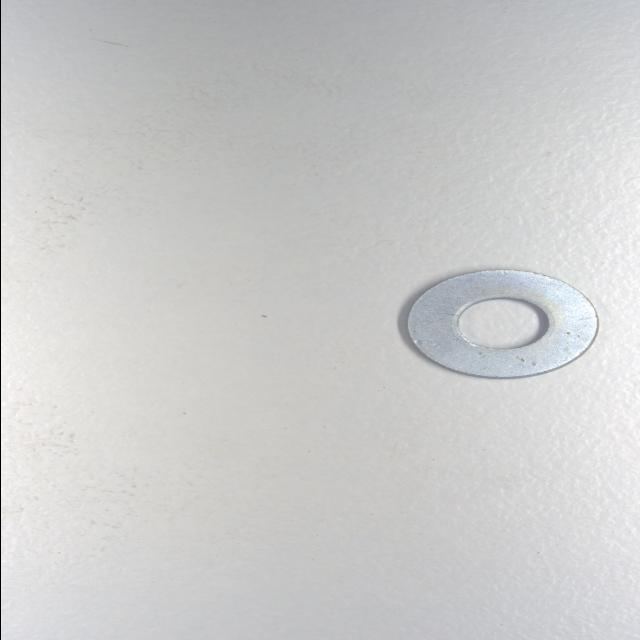washer: (400, 266, 600, 381)
